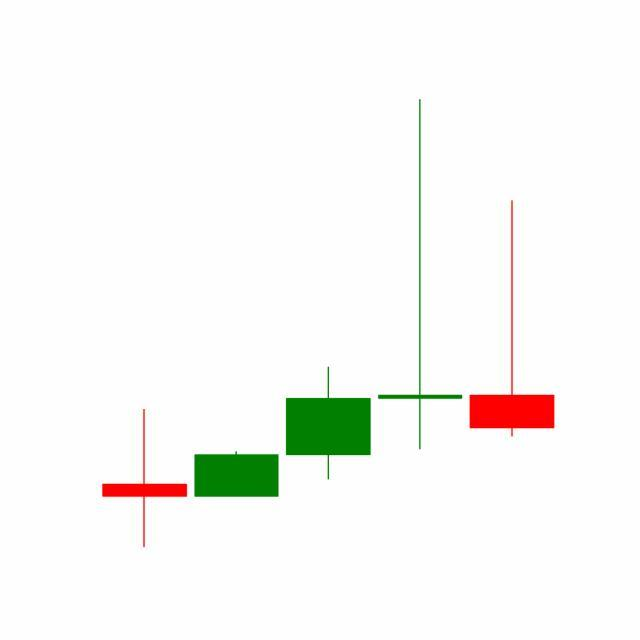Spinning Top: (374, 96, 468, 454)
